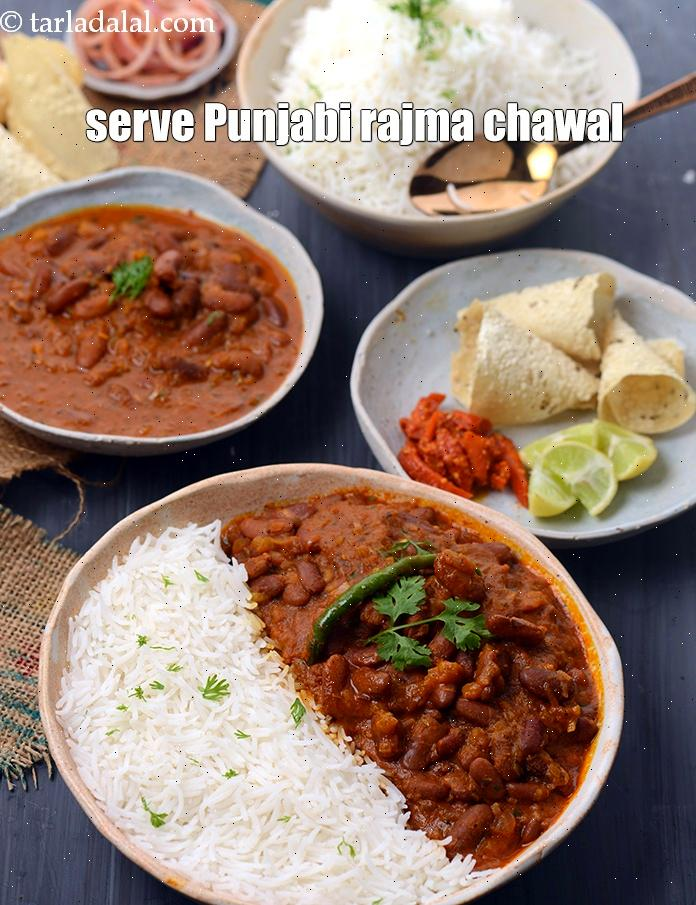rajma: (295, 495, 615, 772)
rice: (73, 575, 268, 862)
